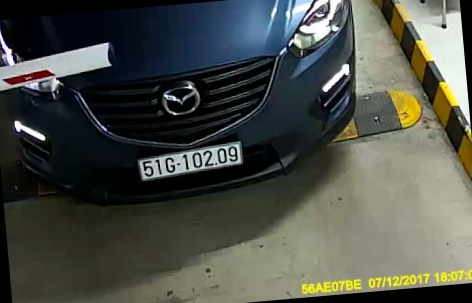plate: (129, 133, 252, 193)
